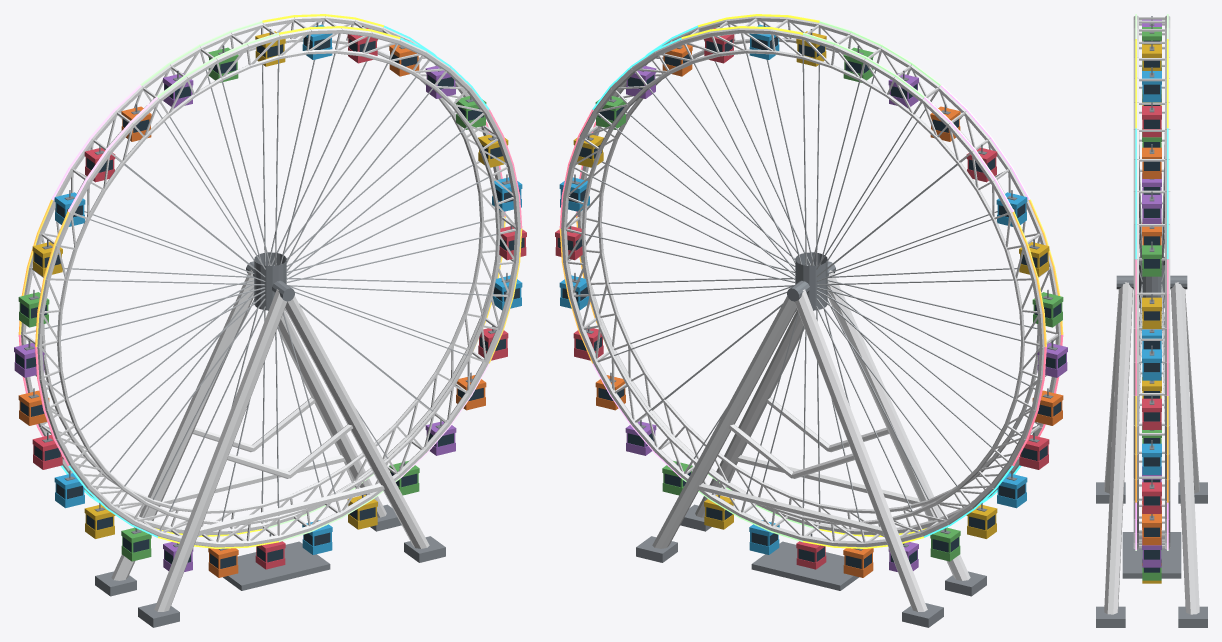
The model's file is ferris.glb.
The picture shows the model from 3 angles, left to right: view 1: azimuth 30°, elevation 25°; view 2: azimuth 150°, elevation 25°; view 3: azimuth 270°, elevation 25°; orthographic projection. The views are drawn at different scales.
Parts seen in each view (by area): view 1: spin_wheel, Ferris_static, gond_20, gond_21, gond_19, gond_18, gond_23, gond_17, gond_25, gond_16, gond_15, gond_24 (+1 smaller); view 2: spin_wheel, Ferris_static, gond_20, gond_21, gond_19, gond_18, gond_23, gond_17, gond_25, gond_16, gond_15, gond_24 (+1 smaller); view 3: Ferris_static, spin_wheel, gond_01, gond_03, gond_00, gond_02, gond_30, gond_31, gond_29, gond_06, gond_07, gond_04 (+11 smaller).
Part boxes in pixels (left/top/right/bottom): spin_wheel: left=18, top=14, right=522, bottom=548; Ferris_static: left=95, top=261, right=445, bottom=627; gond_20: left=84, top=503, right=115, bottom=538; gond_21: left=121, top=527, right=151, bottom=561; gond_19: left=54, top=470, right=84, bottom=508; gond_18: left=32, top=432, right=62, bottom=469; gond_23: left=208, top=548, right=238, bottom=577; gond_17: left=18, top=388, right=49, bottom=425; gond_25: left=302, top=520, right=332, bottom=554; gond_16: left=14, top=340, right=44, bottom=377; gond_15: left=18, top=289, right=49, bottom=327; gond_24: left=255, top=533, right=285, bottom=569; spin_wheel: left=559, top=14, right=1063, bottom=548; Ferris_static: left=636, top=261, right=986, bottom=627; gond_20: left=966, top=503, right=997, bottom=538; gond_21: left=930, top=527, right=960, bottom=561; gond_19: left=997, top=470, right=1027, bottom=508; gond_18: left=1019, top=432, right=1049, bottom=469; gond_23: left=843, top=548, right=873, bottom=577; gond_17: left=1032, top=388, right=1063, bottom=425; gond_25: left=749, top=520, right=779, bottom=554; gond_16: left=1037, top=340, right=1067, bottom=377; gond_15: left=1032, top=289, right=1063, bottom=327; gond_24: left=796, top=533, right=826, bottom=569; Ferris_static: left=1096, top=275, right=1207, bottom=627; spin_wheel: left=1133, top=14, right=1170, bottom=550; gond_01: left=1142, top=345, right=1161, bottom=380; gond_03: left=1142, top=241, right=1161, bottom=276; gond_00: left=1142, top=395, right=1161, bottom=429; gond_02: left=1142, top=294, right=1161, bottom=328; gond_30: left=1142, top=479, right=1161, bottom=513; gond_31: left=1142, top=440, right=1161, bottom=474; gond_29: left=1142, top=514, right=1161, bottom=545; gond_06: left=1142, top=102, right=1161, bottom=137; gond_07: left=1142, top=67, right=1161, bottom=102; gond_04: left=1142, top=191, right=1161, bottom=223.
Size of the model in its own units: 56.65 by 58.74 by 11.4.
